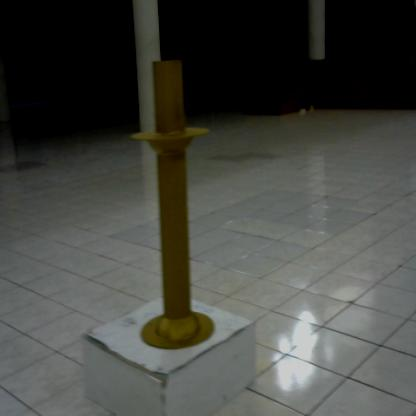pole: (126, 48, 225, 356)
